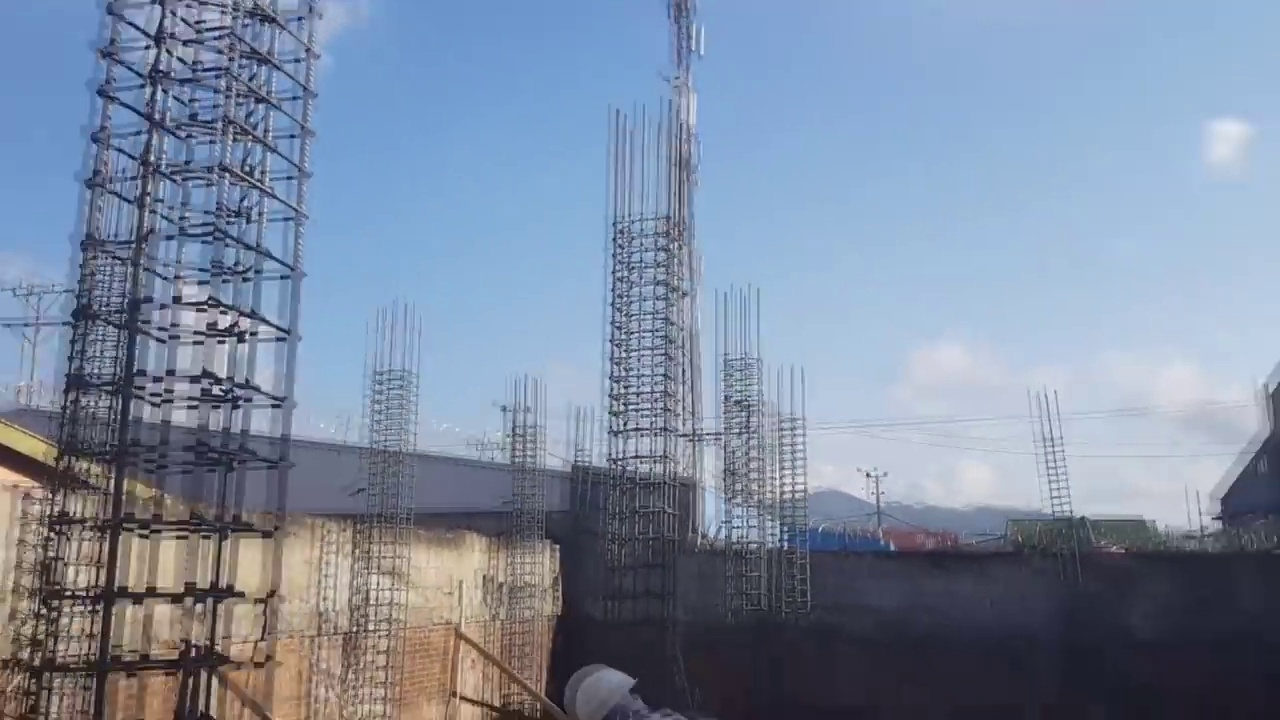helmet: (573, 662, 637, 718)
